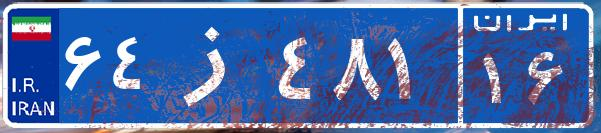1: (385, 28, 445, 110), (475, 38, 525, 113)
4: (273, 28, 330, 110), (110, 28, 158, 105)
6: (57, 26, 110, 107), (525, 38, 570, 115)
8: (330, 28, 385, 110)
ز: (158, 15, 273, 115)
